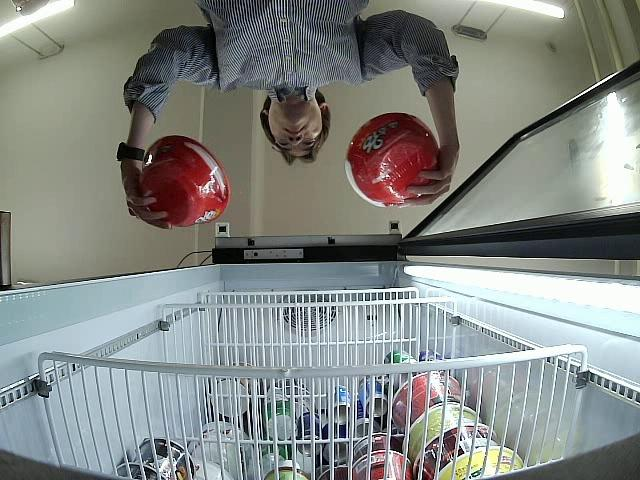00_hand: (121, 166, 173, 230), (406, 150, 458, 206)
10_wangTtukkeong: (346, 113, 438, 205), (140, 136, 230, 225)
